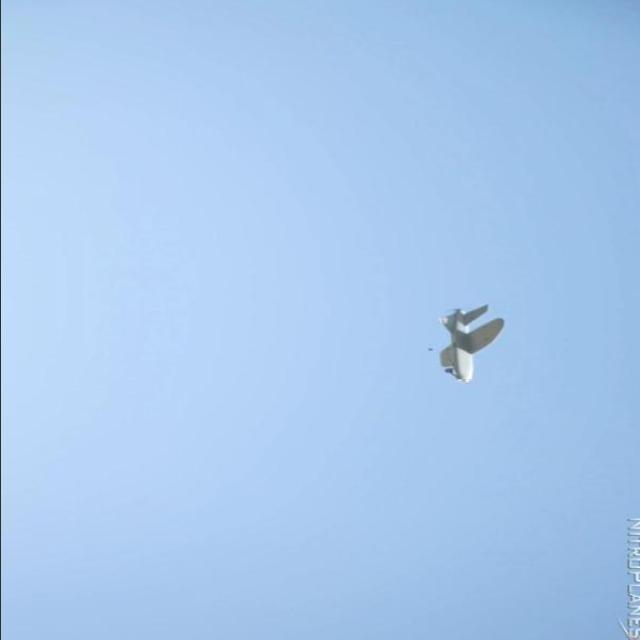plane: (432, 302, 506, 384)
